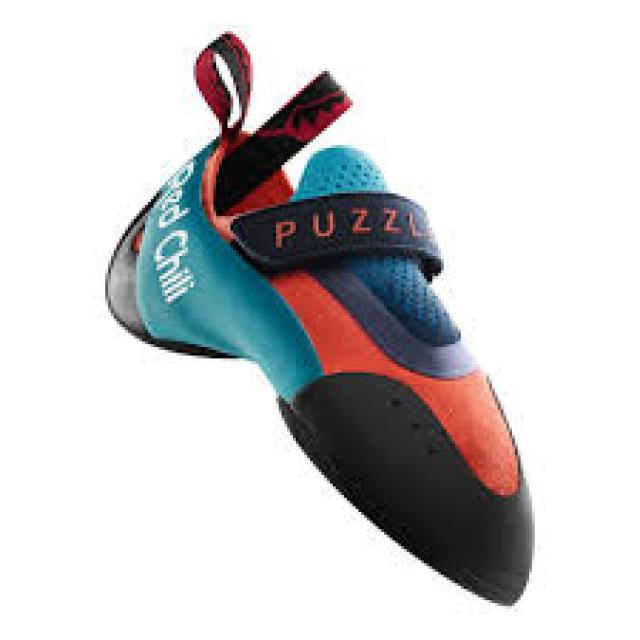climbing-shoes: (102, 28, 538, 606)
